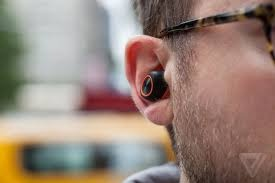earphone: (124, 36, 175, 127)
